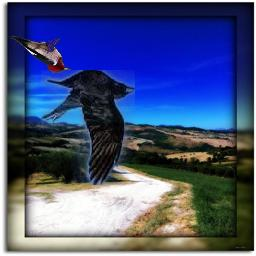Crow: (41, 71, 135, 186)
Woodpecker: (8, 37, 72, 74)
